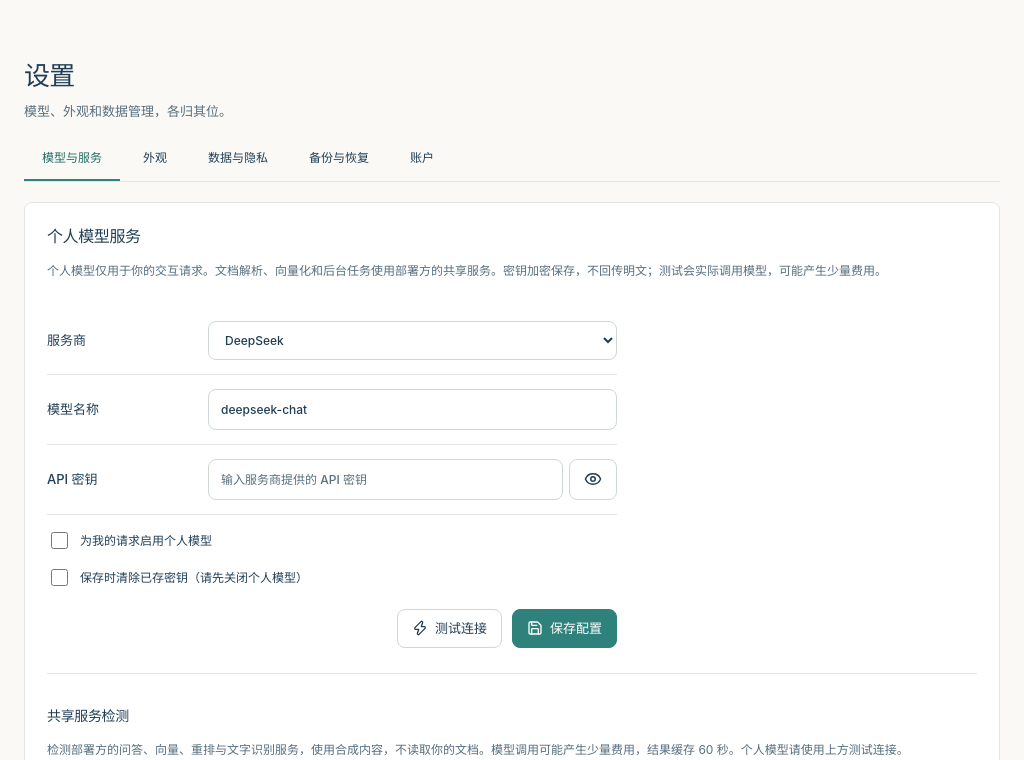
Test: save locks all fields and duplicate submissions, clears key only after success, and preserves receipt across health failure
Type "unit-secret" into the password field labelled "API 密钥" at (386, 479), box [208,459,563,500]
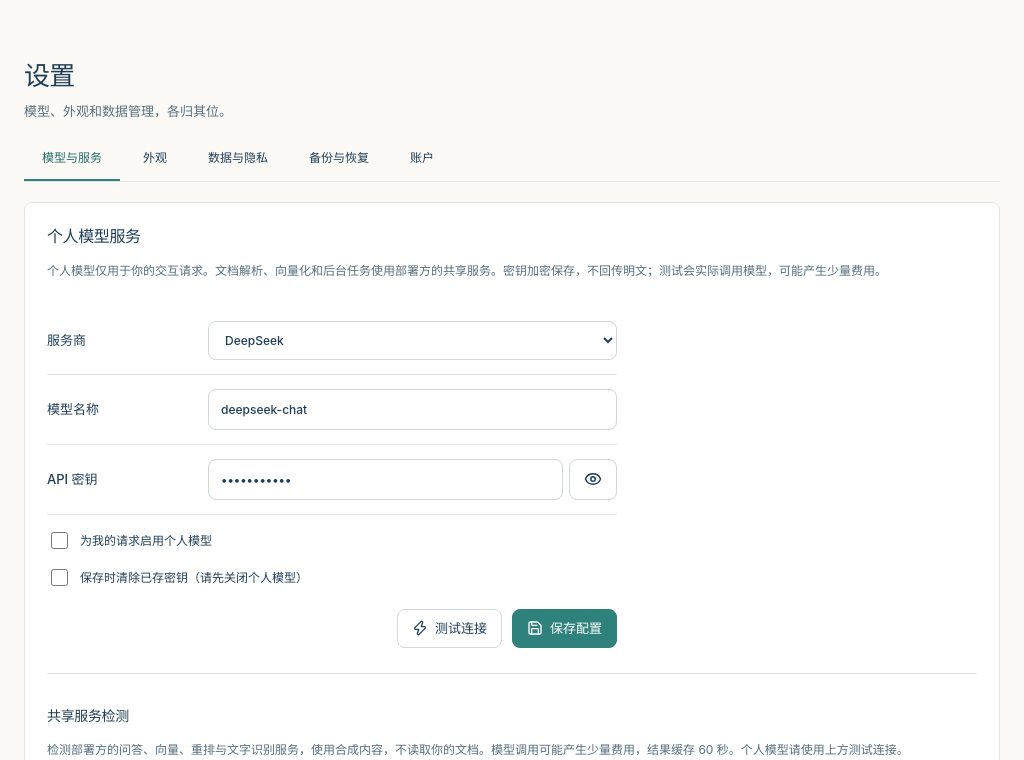
Submit the form named "个人模型服务", box [47,307,617,648]
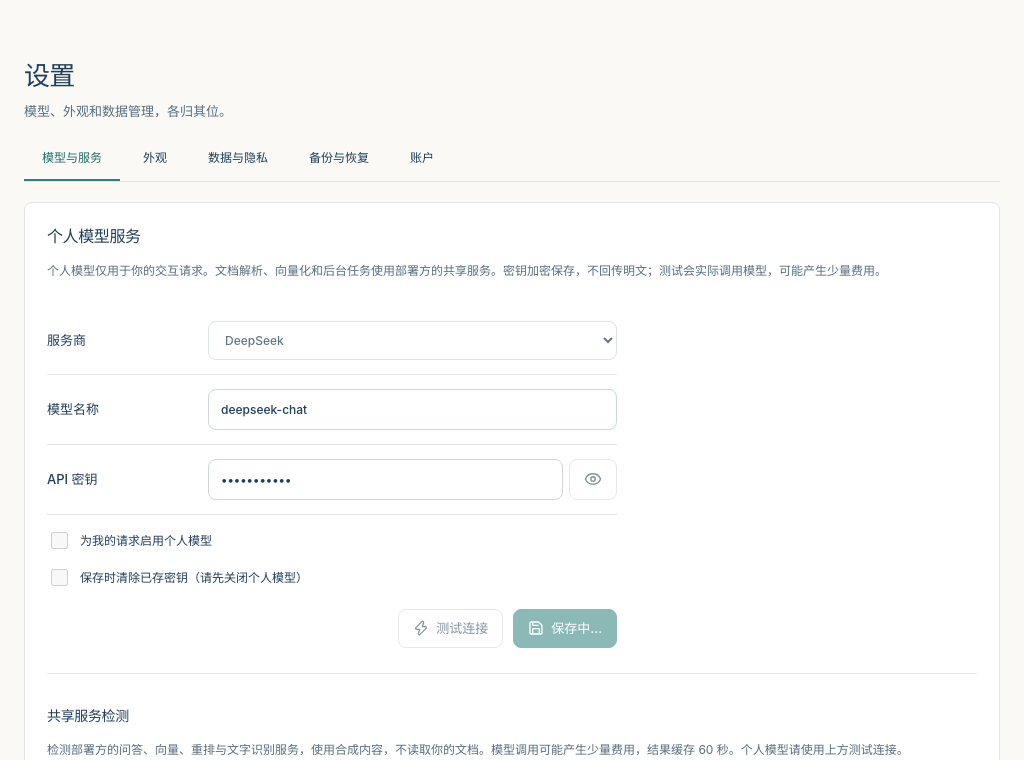
Submit the form named "个人模型服务", box [47,307,617,648]
(page scrolled)
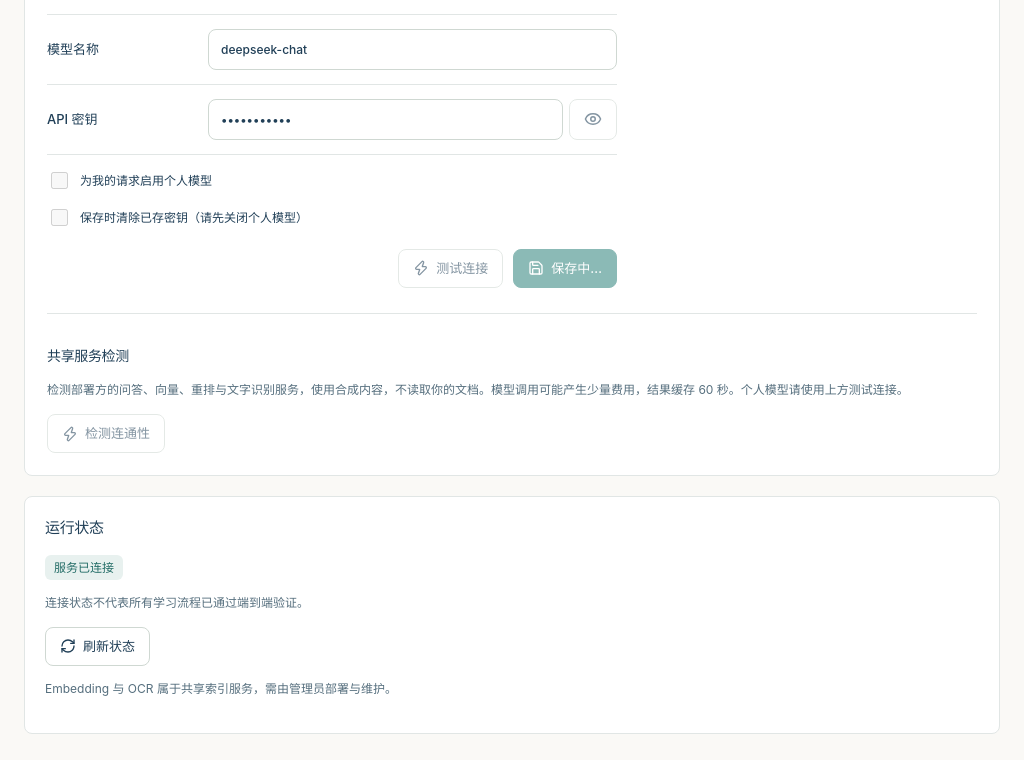
Expected: the field labelled "模型名称" is disabled, [208,29,617,70]
Expected: the password field labelled "API 密钥" is disabled, [208,99,563,140]
Expected: the button named "显示密钥" is disabled, [569,99,617,140]
Click the button "刷新状态" at (98, 646), box [45,627,150,666]
(page scrolled)
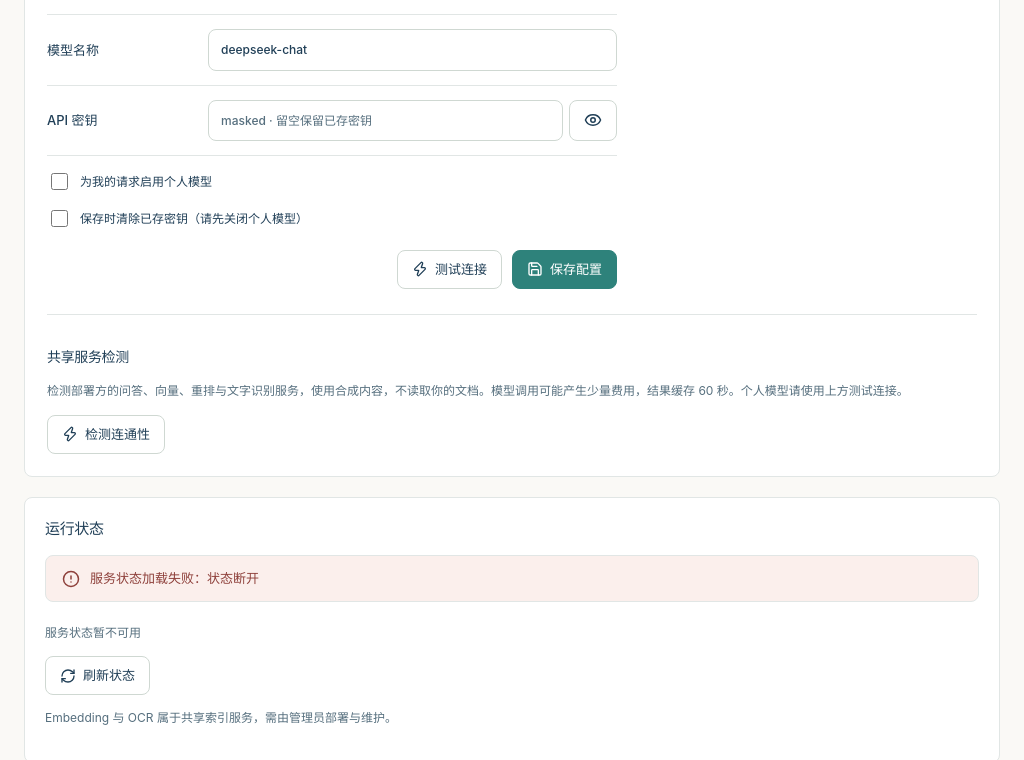
Expected: the text "服务状态加载失败：状态断开" is shown, [90,570,259,586]
Expected: the password field labelled "API 密钥" is empty, [208,100,563,141]
Expected: the button "保存配置" is enabled, [512,250,617,288]
